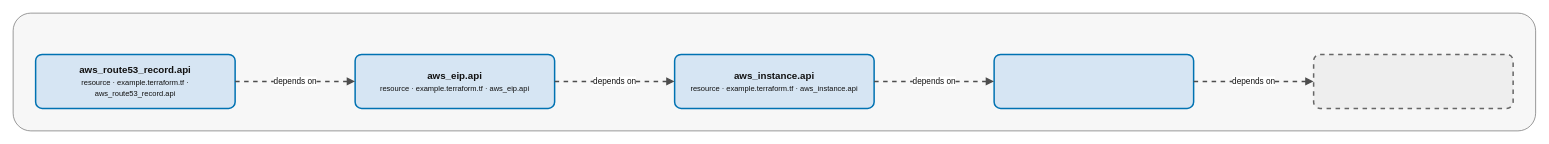
The diagram is 1549 pixels wide and 144 high, and some of its shapes have lost their labels. Here are the shapes that lost their labels. From the top down, the centre of each, then its label:
the point at 1093,81: aws_security_group.api resource · example.terraform.tf · aws_security_group.api
the point at 1413,81: network module · example.terraform.tf · module.network
